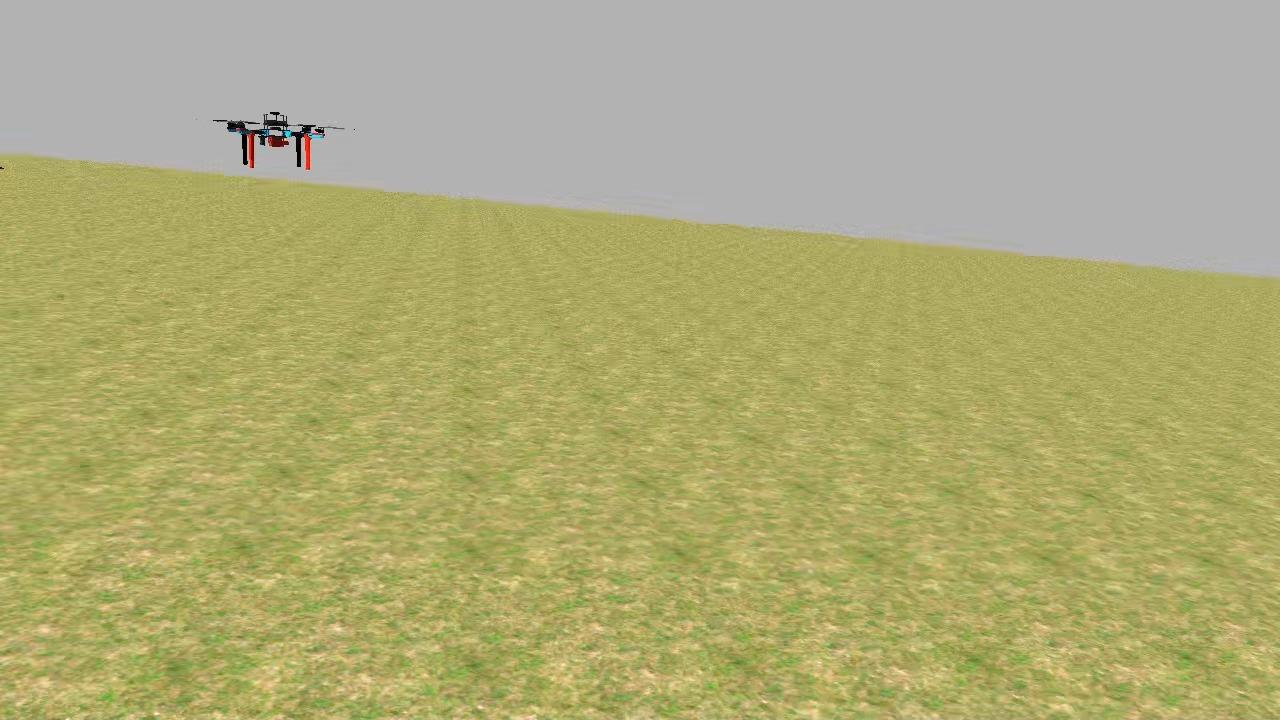UAV: (220, 110, 332, 176)
